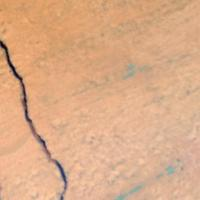crack: (1, 34, 80, 199)
